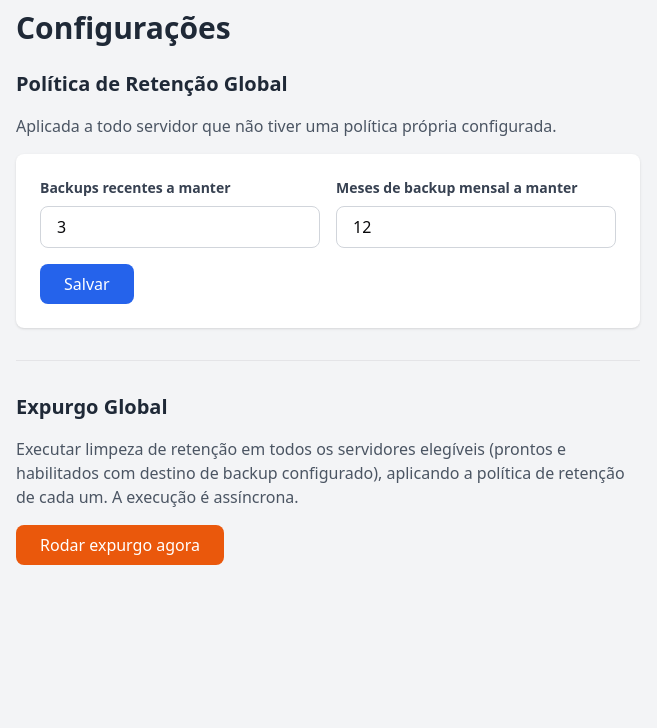
Test: SettingsView › should show deploy guidance when retention sweep returns 404
The image size is (657, 728).
Click the button with test id "sweep-button".
click(120, 545)  # box [16,525,224,565]
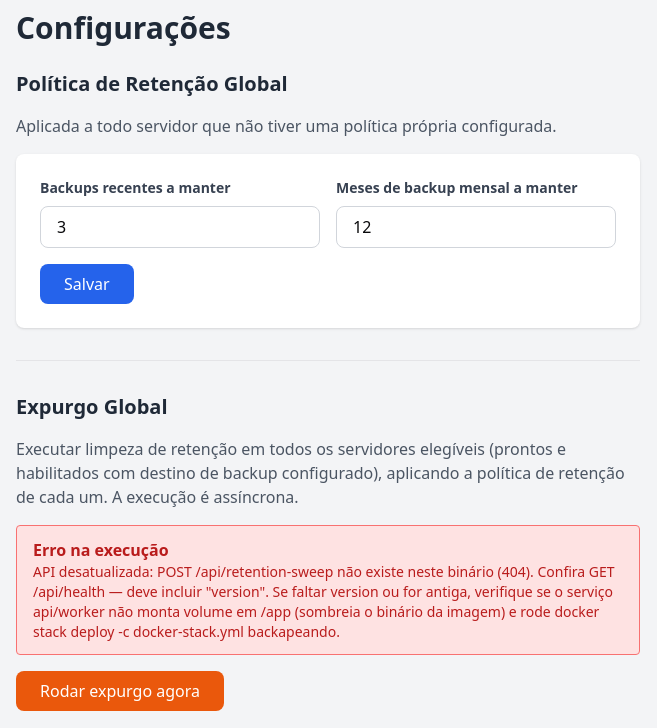
Check: the text "API desatualizada" is shown, box [33,562,615,641]
Check: the text "/api/health" is shown, box [33,562,615,641]
Check: the text "/app" is shown, box [33,562,615,641]
